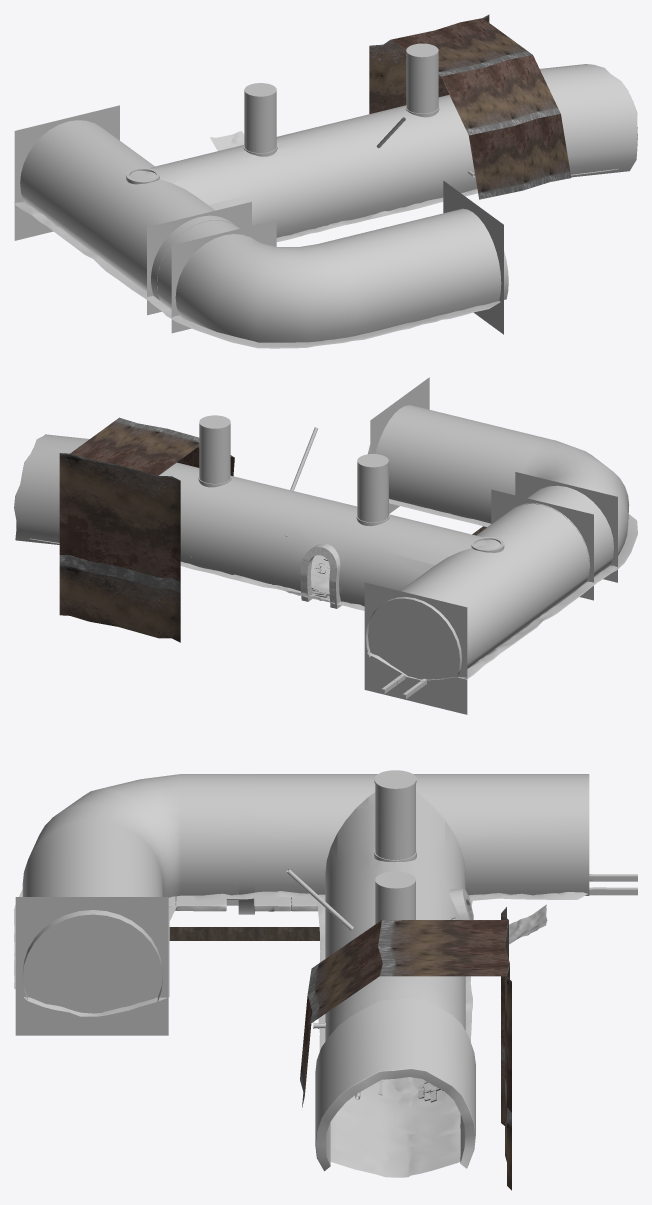
The model's file is tunnel00.fbx.
The picture shows the model from 3 angles, top to bottom: view 1: azimuth 30°, elevation 25°; view 2: azimuth 150°, elevation 25°; view 3: azimuth 270°, elevation 25°; orthographic projection. The views are drawn at different scales.
Visible parts, largest first — view 1: LODGroup_1_MainMesh_1_SubMesh_1, LODGroup_1_MainMesh_1_SubMesh_12, LODGroup_1_MainMesh_1_SubMesh_13, LODGroup_1_MainMesh_1_SubMesh_3, LODGroup_1_MainMesh_1_SubMesh_11, LODGroup_1_MainMesh_1_SubMesh_4, LODGroup_1_MainMesh_1_SubMesh_10, LODGroup_1_MainMesh_1_SubMesh_14; view 2: LODGroup_1_MainMesh_1_SubMesh_1, LODGroup_1_MainMesh_1_SubMesh_12, LODGroup_1_MainMesh_1_SubMesh_13, LODGroup_1_MainMesh_1_SubMesh_3, LODGroup_1_MainMesh_1_SubMesh_11, LODGroup_1_MainMesh_1_SubMesh_4, LODGroup_1_MainMesh_1_SubMesh_10, LODGroup_1_MainMesh_1_SubMesh_15, LODGroup_1_MainMesh_1_SubMesh_7, LODGroup_1_MainMesh_1_SubMesh_14; view 3: LODGroup_1_MainMesh_1_SubMesh_1, LODGroup_1_MainMesh_1_SubMesh_13, LODGroup_1_MainMesh_1_SubMesh_3, LODGroup_1_MainMesh_1_SubMesh_12, LODGroup_1_MainMesh_1_SubMesh_11, LODGroup_1_MainMesh_1_SubMesh_4, LODGroup_1_MainMesh_1_SubMesh_14, LODGroup_1_MainMesh_1_SubMesh_5, LODGroup_1_MainMesh_1_SubMesh_10, LODGroup_1_MainMesh_1_SubMesh_7, LODGroup_1_MainMesh_1_SubMesh_2, LODGroup_1_MainMesh_1_SubMesh_16.
Boxes of the visible parts, bbox=[...] form: LODGroup_1_MainMesh_1_SubMesh_1: bbox=[20, 95, 508, 342]; LODGroup_1_MainMesh_1_SubMesh_12: bbox=[369, 14, 571, 199]; LODGroup_1_MainMesh_1_SubMesh_13: bbox=[14, 105, 503, 334]; LODGroup_1_MainMesh_1_SubMesh_3: bbox=[540, 64, 637, 177]; LODGroup_1_MainMesh_1_SubMesh_11: bbox=[14, 131, 618, 346]; LODGroup_1_MainMesh_1_SubMesh_4: bbox=[126, 83, 439, 300]; LODGroup_1_MainMesh_1_SubMesh_10: bbox=[406, 43, 438, 113]; LODGroup_1_MainMesh_1_SubMesh_14: bbox=[14, 203, 500, 348]; LODGroup_1_MainMesh_1_SubMesh_1: bbox=[159, 405, 629, 677]; LODGroup_1_MainMesh_1_SubMesh_12: bbox=[59, 417, 234, 642]; LODGroup_1_MainMesh_1_SubMesh_13: bbox=[364, 377, 617, 714]; LODGroup_1_MainMesh_1_SubMesh_3: bbox=[14, 434, 89, 544]; LODGroup_1_MainMesh_1_SubMesh_11: bbox=[30, 499, 637, 680]; LODGroup_1_MainMesh_1_SubMesh_4: bbox=[198, 454, 595, 581]; LODGroup_1_MainMesh_1_SubMesh_10: bbox=[199, 415, 230, 483]; LODGroup_1_MainMesh_1_SubMesh_15: bbox=[300, 543, 341, 608]; LODGroup_1_MainMesh_1_SubMesh_7: bbox=[311, 558, 426, 698]; LODGroup_1_MainMesh_1_SubMesh_14: bbox=[311, 534, 637, 679]; LODGroup_1_MainMesh_1_SubMesh_1: bbox=[22, 774, 589, 1165]; LODGroup_1_MainMesh_1_SubMesh_13: bbox=[15, 897, 238, 1035]; LODGroup_1_MainMesh_1_SubMesh_3: bbox=[315, 998, 475, 1171]; LODGroup_1_MainMesh_1_SubMesh_12: bbox=[300, 907, 511, 1190]; LODGroup_1_MainMesh_1_SubMesh_11: bbox=[14, 889, 587, 1177]; LODGroup_1_MainMesh_1_SubMesh_4: bbox=[238, 770, 416, 914]; LODGroup_1_MainMesh_1_SubMesh_14: bbox=[14, 924, 433, 1140]; LODGroup_1_MainMesh_1_SubMesh_5: bbox=[169, 899, 319, 940]; LODGroup_1_MainMesh_1_SubMesh_10: bbox=[375, 871, 415, 924]; LODGroup_1_MainMesh_1_SubMesh_7: bbox=[378, 874, 637, 1101]; LODGroup_1_MainMesh_1_SubMesh_2: bbox=[253, 896, 317, 911]; LODGroup_1_MainMesh_1_SubMesh_16: bbox=[168, 895, 226, 911].
Bounding box in the file's own units: 7452 × 2612 × 6114.
